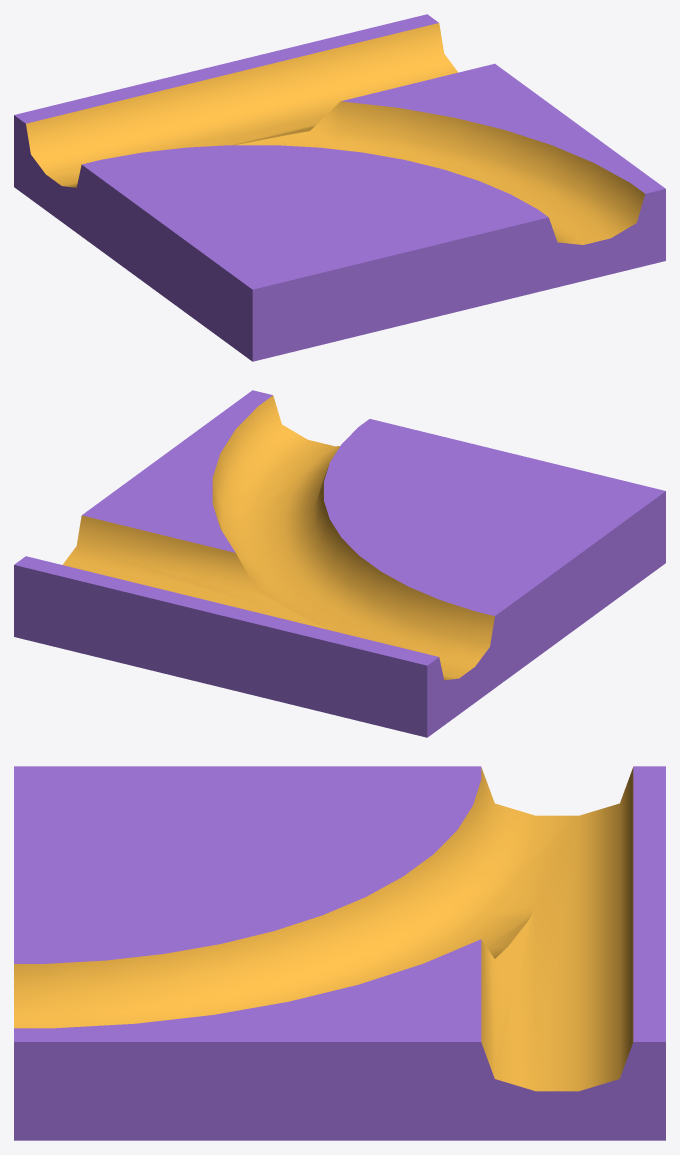
Rendered from split-large-solid-right.glb.
The picture shows the model from 3 angles, top to bottom: view 1: azimuth 30°, elevation 25°; view 2: azimuth 150°, elevation 25°; view 3: azimuth 270°, elevation 25°; orthographic projection. The views are drawn at different scales.
Parts seen in each view (by area): view 1: split-large-solid-right; view 2: split-large-solid-right; view 3: split-large-solid-right.
Boxes of the visible parts, x1,y1,x2,y2 form: split-large-solid-right: [14, 14, 665, 361]; split-large-solid-right: [14, 390, 665, 737]; split-large-solid-right: [14, 766, 665, 1140].
Bounding box in the file's own units: 3 × 0.4999 × 3.
1 material, 1 textured.
